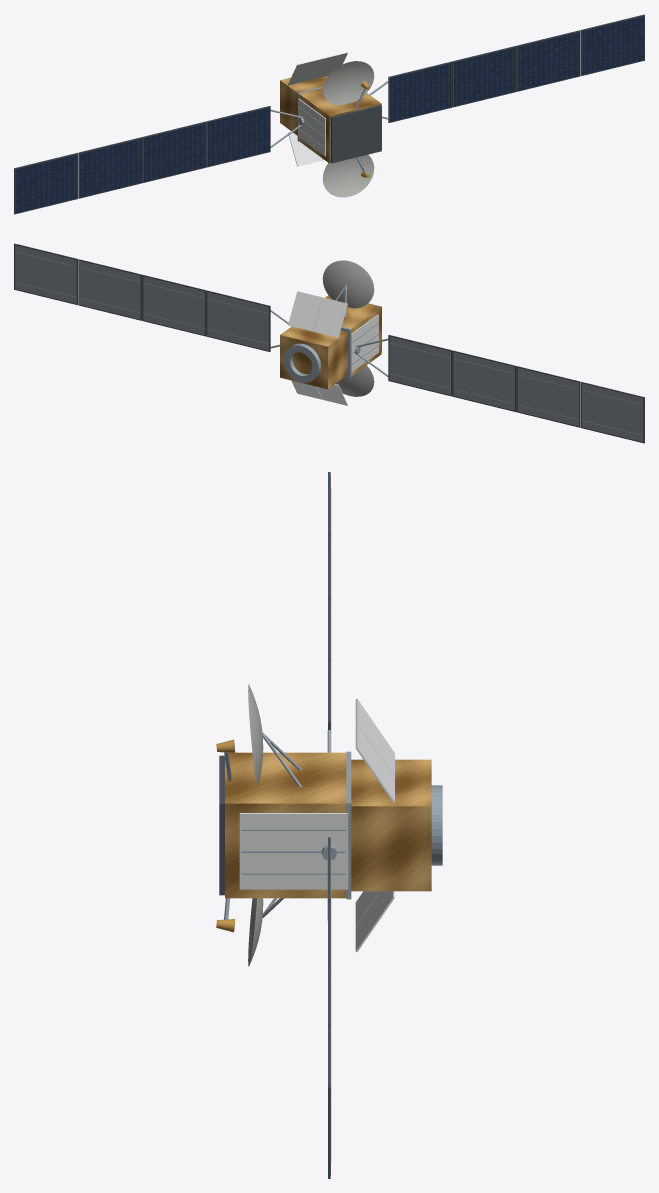
Rendered from ref-eurostar-2000-24665.glb.
3 renders of one model, top to bottom at view 1: azimuth 30°, elevation 25°; view 2: azimuth 150°, elevation 25°; view 3: azimuth 270°, elevation 25°, orthographic. The views are drawn at different scales.
Parts seen in each view (by area): view 1: Solar cell panel (×8), Communications reflector (×2), Solar panel frame (×8), Earth-facing deck, Deployed radiator leaf (×3), Payload module, Service module, Radiator face; view 2: Rear array substrate (×8), Solar panel frame (×8), Service module, Deployed radiator leaf (×4), Communications reflector (×2), Radiator face, Payload module, Launch adapter ring; view 3: Service module, Payload module, Radiator face, Deployed radiator leaf (×3), Launch adapter ring.
Boxes of the visible parts, x1,y1,x2,y2 form: Solar cell panel (×8): [15, 16, 644, 213]; Communications reflector (×2): [322, 61, 374, 197]; Solar panel frame (×8): [14, 14, 644, 214]; Earth-facing deck: [330, 105, 381, 163]; Deployed radiator leaf (×3): [288, 52, 347, 166]; Payload module: [299, 88, 381, 163]; Service module: [280, 75, 328, 135]; Radiator face: [298, 98, 325, 156]; Rear array substrate (×8): [15, 245, 643, 442]; Solar panel frame (×8): [14, 243, 644, 443]; Service module: [280, 326, 347, 389]; Deployed radiator leaf (×4): [288, 291, 347, 405]; Communications reflector (×2): [322, 260, 374, 396]; Radiator face: [351, 314, 378, 372]; Payload module: [317, 295, 381, 375]; Launch adapter ring: [283, 343, 321, 382]; Service module: [351, 759, 431, 891]; Payload module: [225, 752, 346, 898]; Radiator face: [239, 813, 348, 889]; Deployed radiator leaf (×3): [355, 698, 394, 952]; Launch adapter ring: [431, 785, 442, 865].
Bounding box in the file's own units: 27.87 × 5.7 × 4.33.
8 materials, 2 textured.
